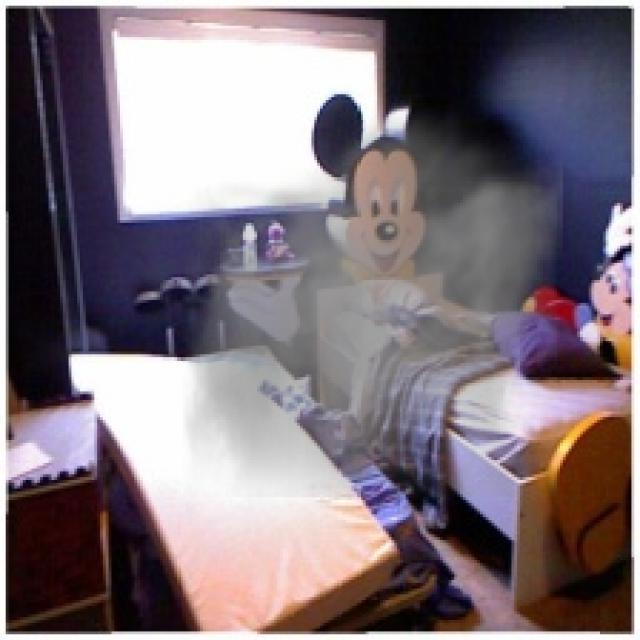Smoke: (183, 97, 563, 497)
